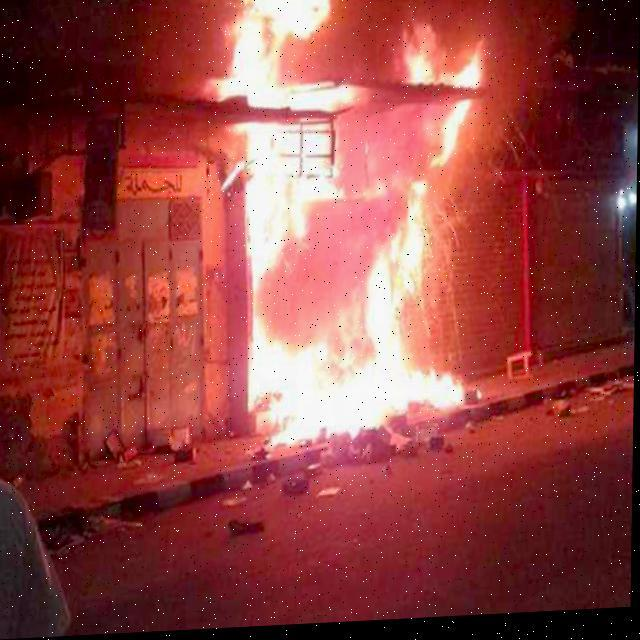Fire: (197, 0, 488, 442)
